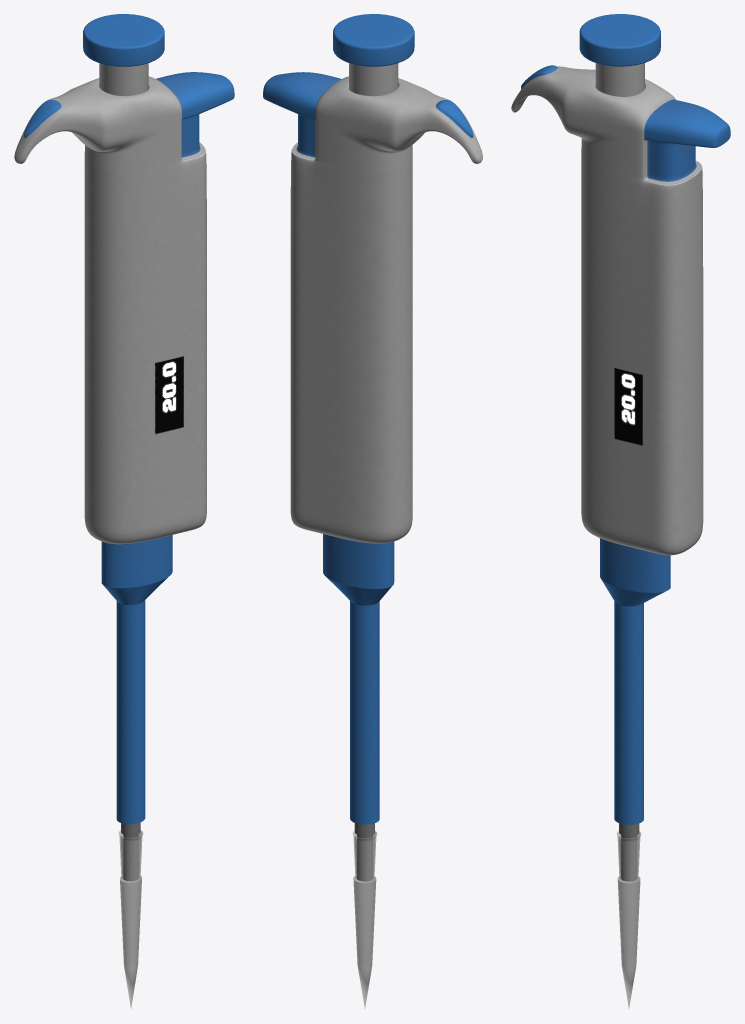
Rendered from mechanical_pipette.glb.
3 views of the same model, side by side, from view 1: azimuth 30°, elevation 25°; view 2: azimuth 150°, elevation 25°; view 3: azimuth 330°, elevation 25° (orthographic).
Visible parts, largest first — view 1: Cube (×5); view 2: Cube (×5); view 3: Cube (×5).
Boxes of the visible parts, box(x1,y1,x2,y2) form: Cube (×5): box(14, 14, 234, 1009); Cube (×5): box(263, 14, 482, 1008); Cube (×5): box(511, 14, 730, 1008).
Size of the model in its own units: 0.5368 by 2.37 by 0.1788.
Materials: 5 (5 with a texture image).
